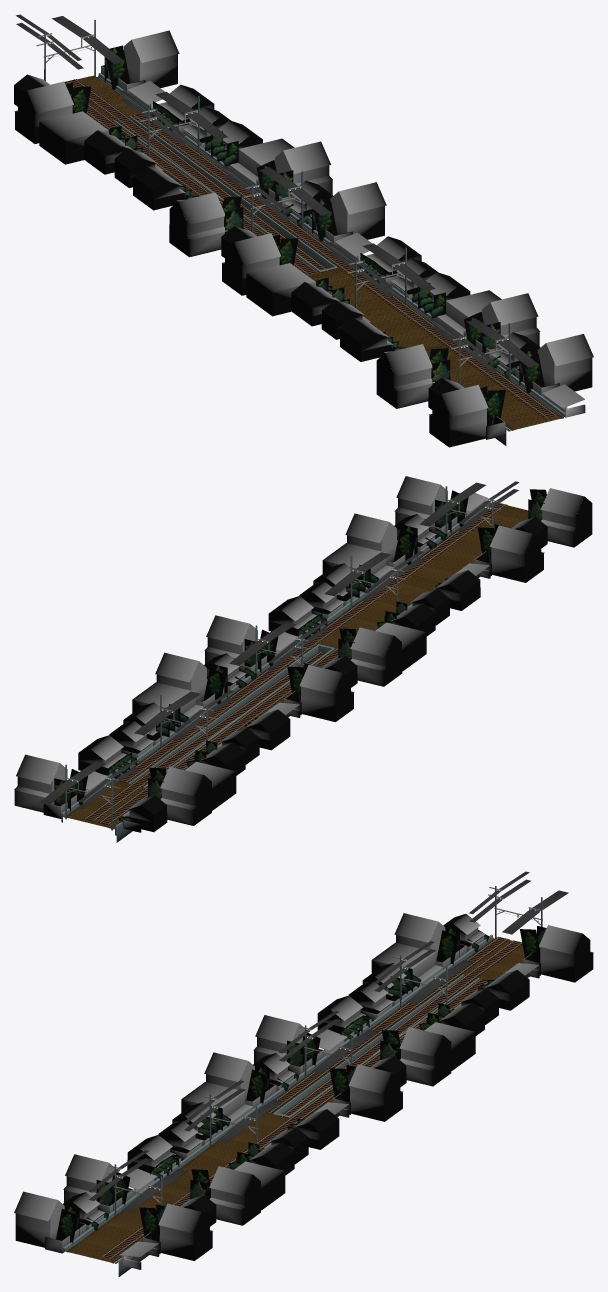
File: K_SHINOMIYA_3RAIL.glb
The picture shows the model from 3 angles, top to bottom: view 1: azimuth 30°, elevation 25°; view 2: azimuth 150°, elevation 25°; view 3: azimuth 330°, elevation 25°; orthographic projection. The views are drawn at different scales.
Parts seen in each view (by area): view 1: obj4; view 2: obj4; view 3: obj4.
Boxes of the visible parts, bbox=[...] form: obj4: bbox=[14, 14, 593, 447]; obj4: bbox=[14, 476, 592, 842]; obj4: bbox=[14, 871, 593, 1276].
Bounding box in the file's own units: 94.21 × 38.04 × 481.
10 materials, 10 textured.
